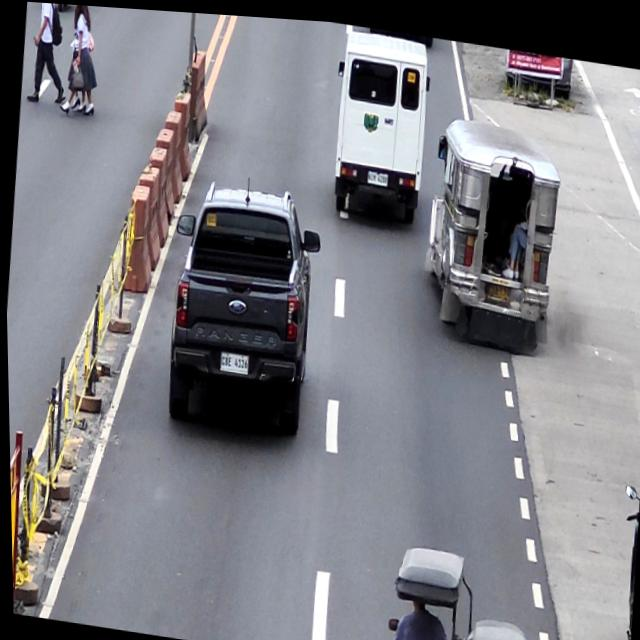Car: (159, 171, 325, 439), (323, 22, 435, 223)
Jeep: (418, 108, 567, 347)
License-Plate: (218, 350, 248, 369), (485, 274, 510, 292), (365, 165, 387, 181)
